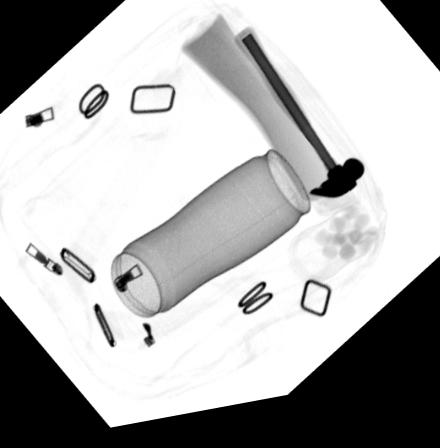Hammer: (230, 33, 365, 211)
